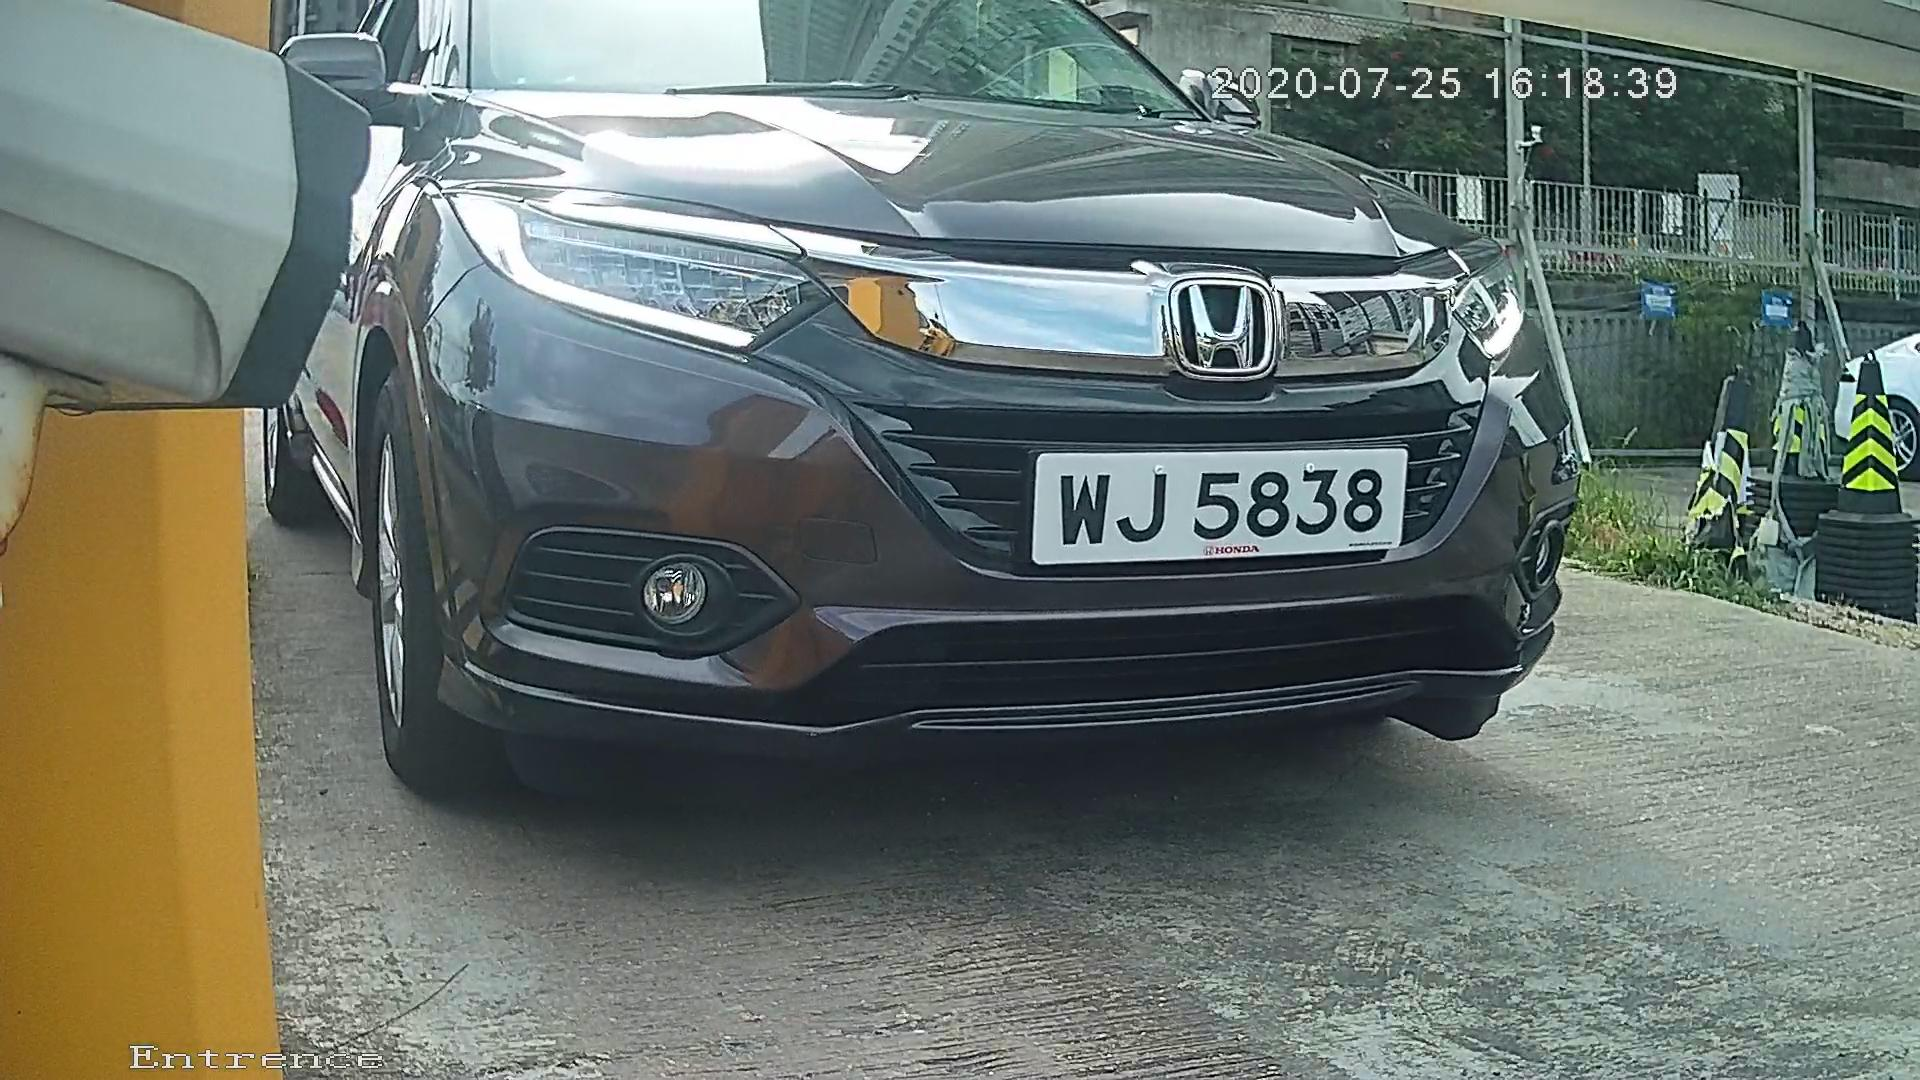Car: (146, 1, 1723, 839)
License Plate: (1012, 425, 1423, 589)
